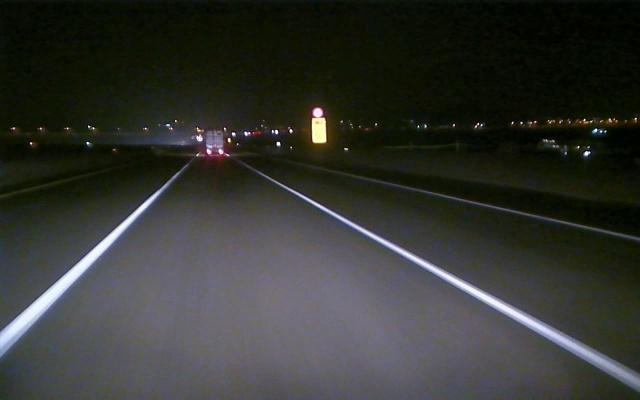lane: (278, 181, 637, 388), (3, 188, 165, 355), (348, 173, 637, 242)
